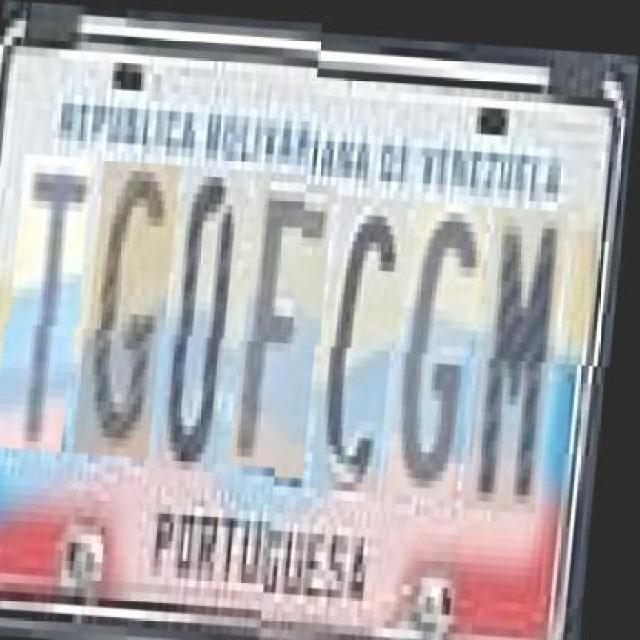0: (168, 172, 250, 477)
c: (322, 190, 413, 487)
f: (240, 175, 338, 474)
g: (85, 166, 183, 465), (398, 194, 492, 492)
m: (478, 200, 572, 506)
t: (5, 162, 96, 460)
